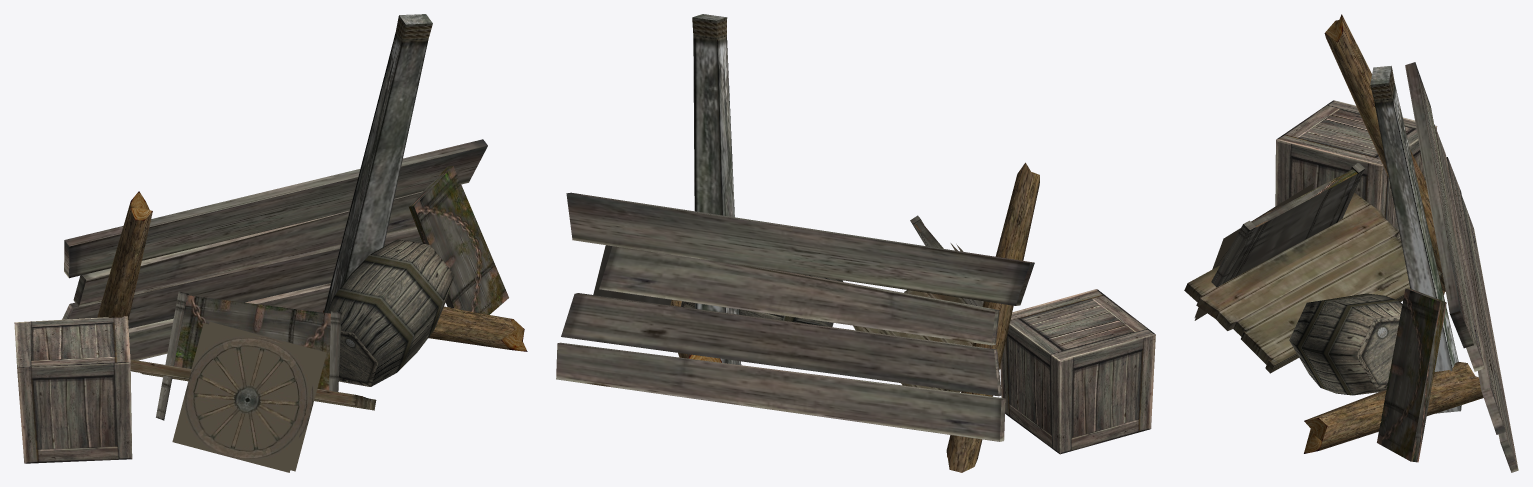
File: pir_m_prp_inv_barricade_01.fbx
3 views of the same model, side by side, from view 1: azimuth 30°, elevation 25°; view 2: azimuth 150°, elevation 25°; view 3: azimuth 270°, elevation 25° (orthographic). The views are drawn at different scales.
Parts seen in each view (by area): view 1: spokes1, plank_112, barrel, polySurface1, craneA_arm1, plank_114, sides2, plank_113, sides1, top, log, polycombine3 (+5 smaller); view 2: plank_112, plank_113, plank_115, plank_114, polySurface1, craneA_arm1, top, log, CartBase, sides2, barrel; view 3: CartBase, barrel, craneA_arm1, sides2, plank_112, sides1, polycombine3, polySurface1, top, log, plank_113, plank_115 (+3 smaller).
Boxes of the visible parts, x1,y1,x2,y2 form: spokes1: (172, 323, 320, 472); plank_112: (64, 139, 487, 278); barrel: (327, 239, 454, 386); polySurface1: (17, 362, 132, 463); craneA_arm1: (323, 14, 432, 312); plank_114: (73, 191, 423, 306); sides2: (408, 166, 508, 314); plank_113: (62, 228, 422, 328); sides1: (174, 295, 330, 390); top: (14, 316, 130, 367); log: (97, 191, 152, 320); polycombine3: (323, 306, 527, 351); plank_112: (566, 192, 1034, 305); plank_113: (561, 293, 1001, 396); plank_115: (556, 342, 1005, 441); plank_114: (599, 246, 999, 345); polySurface1: (1000, 324, 1155, 454); craneA_arm1: (692, 14, 741, 365); top: (1009, 289, 1155, 361); log: (946, 162, 1039, 472); CartBase: (853, 290, 1000, 392); sides2: (593, 245, 671, 305); barrel: (681, 273, 842, 326); CartBase: (1184, 192, 1442, 373); barrel: (1289, 293, 1402, 395); craneA_arm1: (1370, 65, 1461, 413); sides2: (1377, 288, 1446, 462); plank_112: (1405, 62, 1473, 348); sides1: (1223, 169, 1357, 283); polycombine3: (1304, 362, 1483, 453); polySurface1: (1275, 126, 1437, 240); top: (1276, 100, 1436, 165); log: (1324, 14, 1445, 295); plank_113: (1446, 157, 1505, 434); plank_115: (1462, 196, 1518, 472).
Size of the model in its own units: 2692 by 1723 by 1403.
2 materials, 2 textured.
